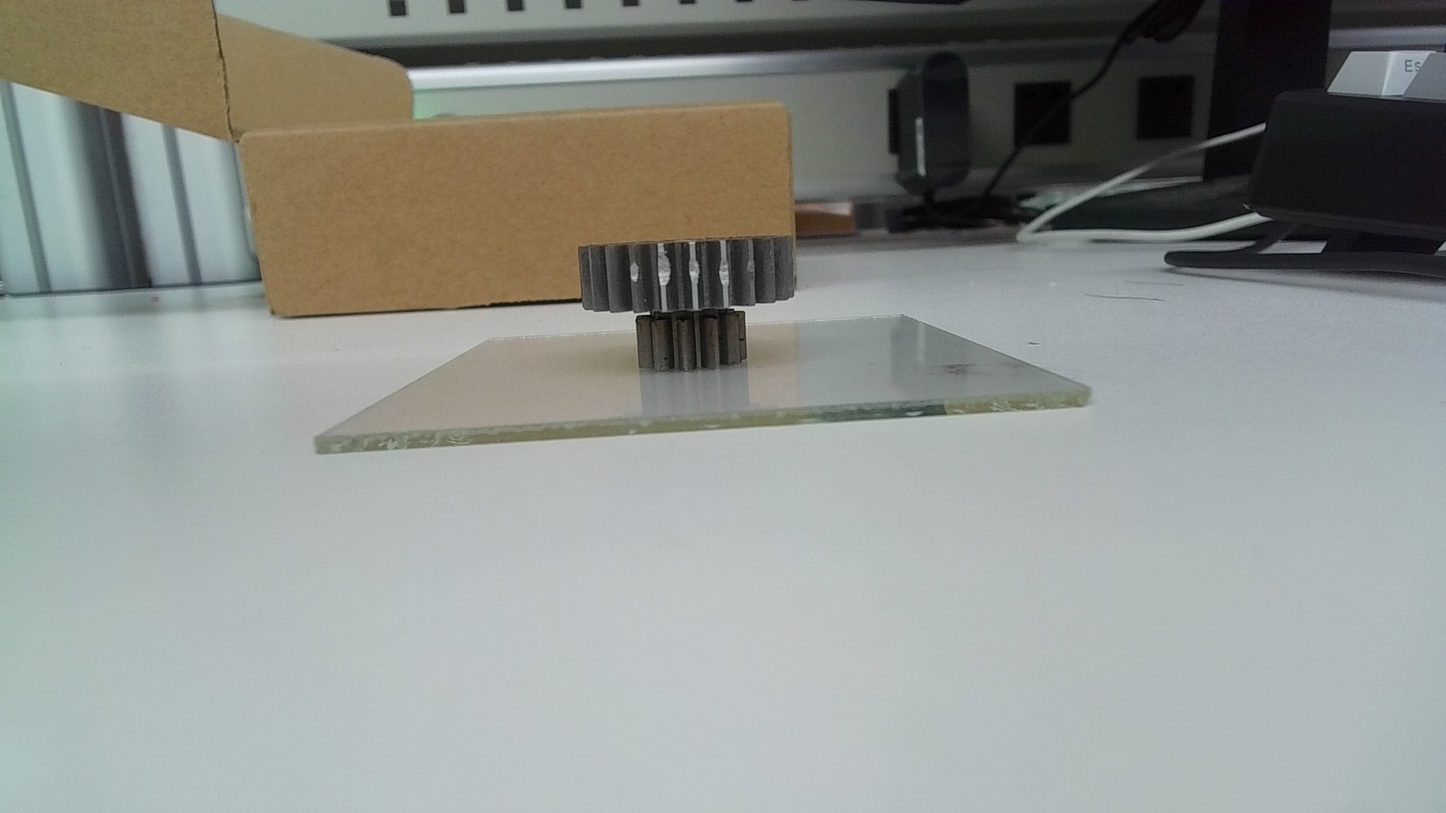gear: (573, 234, 801, 374)
